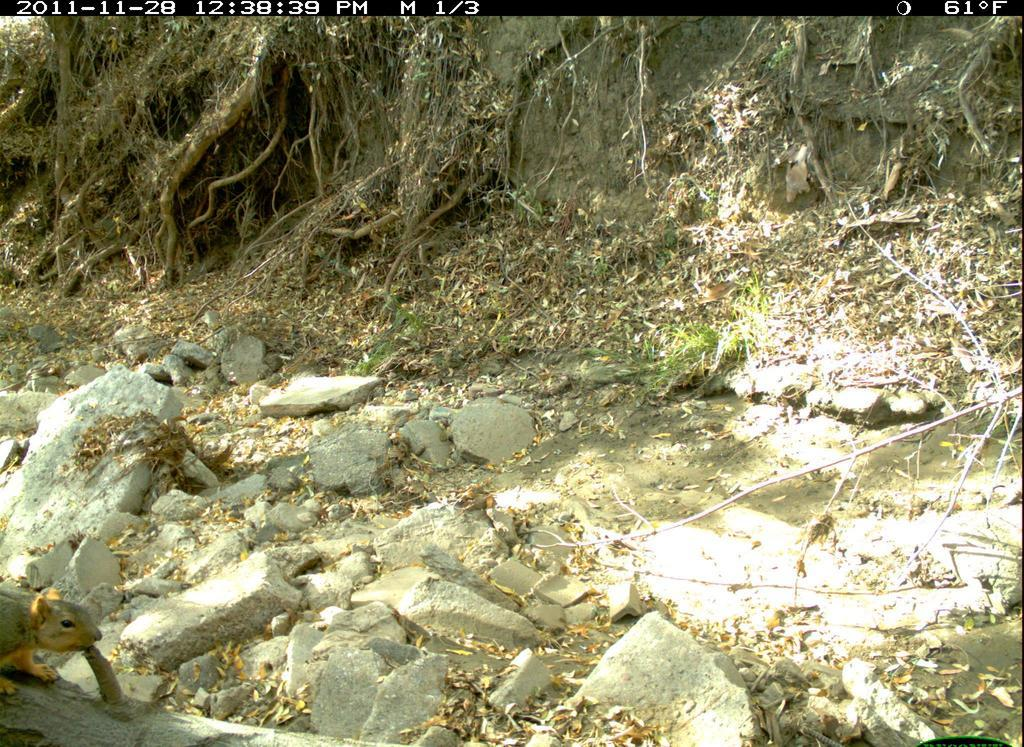squirrel: (1, 584, 111, 713)
